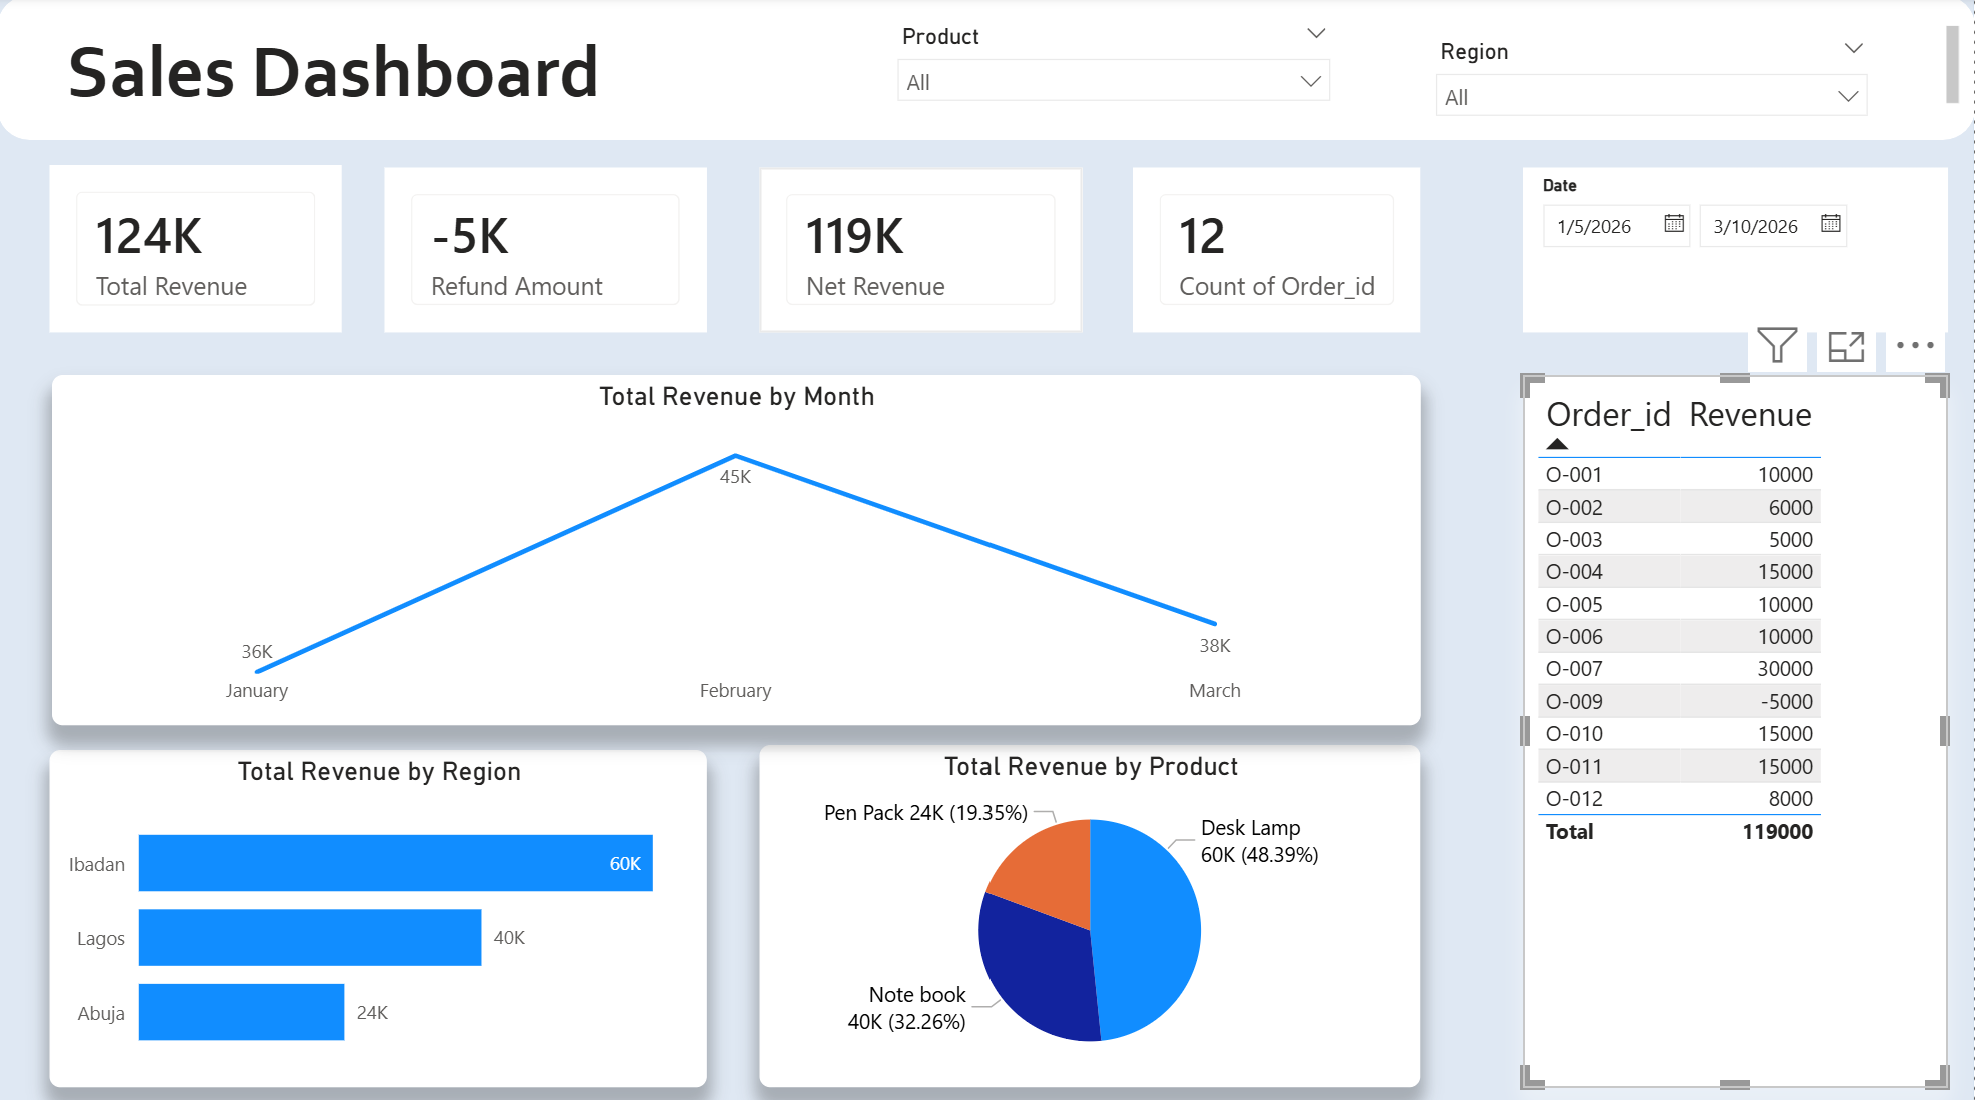

What the dashboard file says about the page in this screenshot:
{"tool":"powerbi","page":{"name":"Page 1","canvas":[1280,720],"ordinal":0},"visuals":[{"type":"shape","box":[0,0,1280.4,720.3],"z":0},{"type":"shape","box":[0,0,1280.4,93.9],"z":1000},{"type":"textbox","box":[0,0,1280.4,93.9],"z":2000},{"type":"cardVisual","fields":{"Data":["cohort9_sales.Total Revenue"]},"box":[34,109.5,189.4,108.5],"z":3000},{"type":"cardVisual","fields":{"Data":["Count(cohort9_sales.Order_id)"]},"box":[734.9,111.1,186.2,106.8],"z":4000},{"type":"cardVisual","fields":{"Data":["cohort9_sales.Refund Amount"]},"box":[250.9,111.1,208.8,106.8],"z":5000},{"type":"cardVisual","fields":{"Data":["cohort9_sales.Net Revenue"]},"box":[493.7,111.1,208.8,106.8],"z":6000},{"type":"clusteredBarChart","fields":{"Y":["cohort9_sales.Total Revenue"],"Category":["cohort9_sales.Region"]},"box":[34,488.9,425.7,218.5],"z":7000},{"type":"pieChart","fields":{"Category":["cohort9_sales.Product"],"Y":["cohort9_sales.Total Revenue"]},"box":[493.7,485.6,427.3,221.8],"z":8000},{"type":"lineChart","title":"Total Revenue by Month","fields":{"Category":["cohort9_sales.Date.Variation.Date Hierarchy.Month"],"Y2":["cohort9_sales.Net Revenue"]},"box":[35.6,246,885.4,226.6],"z":9000},{"type":"slicer","fields":{"Values":["cohort9_sales.Date"]},"box":[987.4,111.7,275.2,106.8],"z":10000},{"type":"slicer","fields":{"Values":["cohort9_sales.Product"]},"box":[573,12.1,299.5,77.7],"z":10001},{"type":"slicer","fields":{"Values":["cohort9_sales.Region"]},"box":[921,21.9,299.5,58.3],"z":10002},{"type":"tableEx","fields":{"Values":["cohort9_sales.Order_id","Sum(cohort9_sales.Revenue)"]},"box":[987.4,246,275.2,461.3],"z":10003}]}

Visuals, with their boxes in screenshot pixels (x1, y1, x2, y2), scaled from the page's 1280x720 canvas onto the 1975x1100 screenshot:
shape: locate(0, 0, 1974, 1099)
shape: locate(0, 0, 1974, 143)
textbox: locate(0, 0, 1974, 143)
cardVisual - cohort9_sales.Total Revenue: locate(52, 167, 345, 333)
cardVisual - Count(cohort9_sales.Order_id): locate(1134, 170, 1421, 333)
cardVisual - cohort9_sales.Refund Amount: locate(387, 170, 709, 333)
cardVisual - cohort9_sales.Net Revenue: locate(762, 170, 1084, 333)
clusteredBarChart - cohort9_sales.Total Revenue x cohort9_sales.Region: locate(52, 747, 709, 1081)
pieChart - cohort9_sales.Product x cohort9_sales.Total Revenue: locate(762, 742, 1421, 1081)
"Total Revenue by Month" lineChart: locate(55, 376, 1421, 722)
slicer - cohort9_sales.Date: locate(1524, 171, 1948, 334)
slicer - cohort9_sales.Product: locate(884, 18, 1346, 137)
slicer - cohort9_sales.Region: locate(1421, 33, 1883, 123)
tableEx - cohort9_sales.Order_id x Sum(cohort9_sales.Revenue): locate(1524, 376, 1948, 1081)
